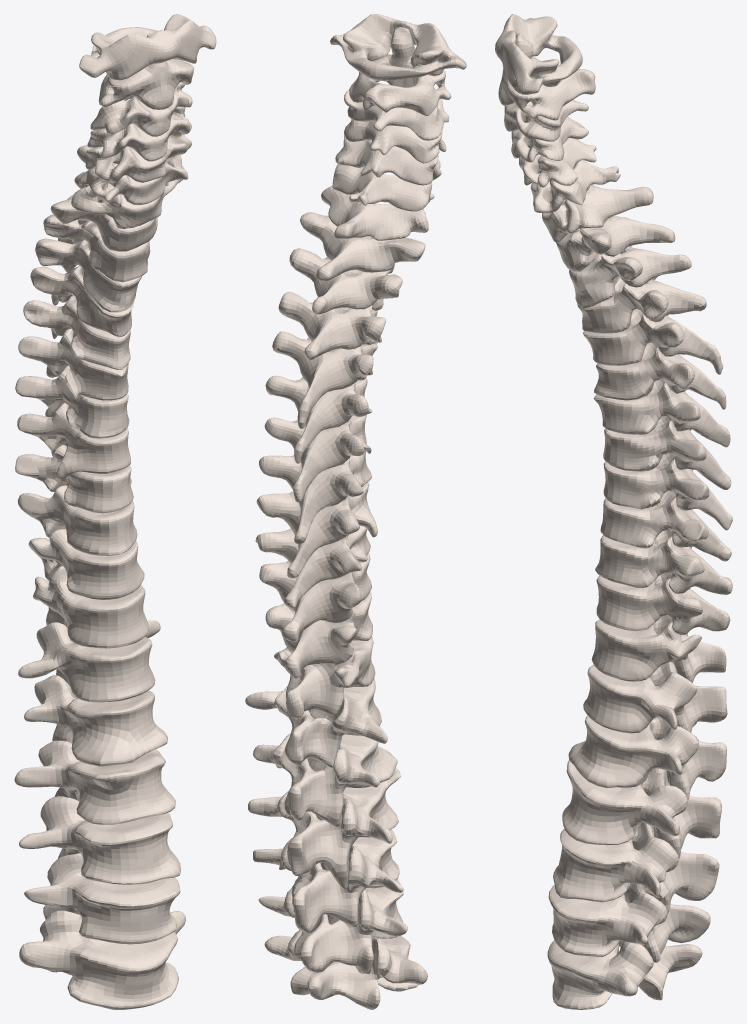
The model's file is 3d-vh-f-spinal-cord-landmark.fbx.
3 renders of one model, left to right at view 1: azimuth 30°, elevation 25°; view 2: azimuth 150°, elevation 25°; view 3: azimuth 270°, elevation 25°, orthographic. The views are drawn at different scales.
Visible parts, largest first — view 1: VH_F_spinal_cord_landmark_lumbar_vertebrae, VH_F_spinal_cord_landmark_thoracic_vertebrae, VH_F_spinal_cord_landmark_cervical_vertebrae; view 2: VH_F_spinal_cord_landmark_thoracic_vertebrae, VH_F_spinal_cord_landmark_lumbar_vertebrae, VH_F_spinal_cord_landmark_cervical_vertebrae; view 3: VH_F_spinal_cord_landmark_thoracic_vertebrae, VH_F_spinal_cord_landmark_lumbar_vertebrae, VH_F_spinal_cord_landmark_cervical_vertebrae.
Boxes of the visible parts, left/top/right/bottom form: VH_F_spinal_cord_landmark_lumbar_vertebrae: left=14, top=620, right=185, bottom=1009; VH_F_spinal_cord_landmark_thoracic_vertebrae: left=15, top=172, right=166, bottom=648; VH_F_spinal_cord_landmark_cervical_vertebrae: left=71, top=14, right=216, bottom=228; VH_F_spinal_cord_landmark_thoracic_vertebrae: left=255, top=212, right=425, bottom=717; VH_F_spinal_cord_landmark_lumbar_vertebrae: left=245, top=678, right=427, bottom=1009; VH_F_spinal_cord_landmark_cervical_vertebrae: left=321, top=14, right=466, bottom=240; VH_F_spinal_cord_landmark_thoracic_vertebrae: left=556, top=215, right=732, bottom=682; VH_F_spinal_cord_landmark_lumbar_vertebrae: left=547, top=662, right=727, bottom=1009; VH_F_spinal_cord_landmark_cervical_vertebrae: left=495, top=14, right=653, bottom=242.
Size of the model in its own units: 10.41 by 59.28 by 13.25.
